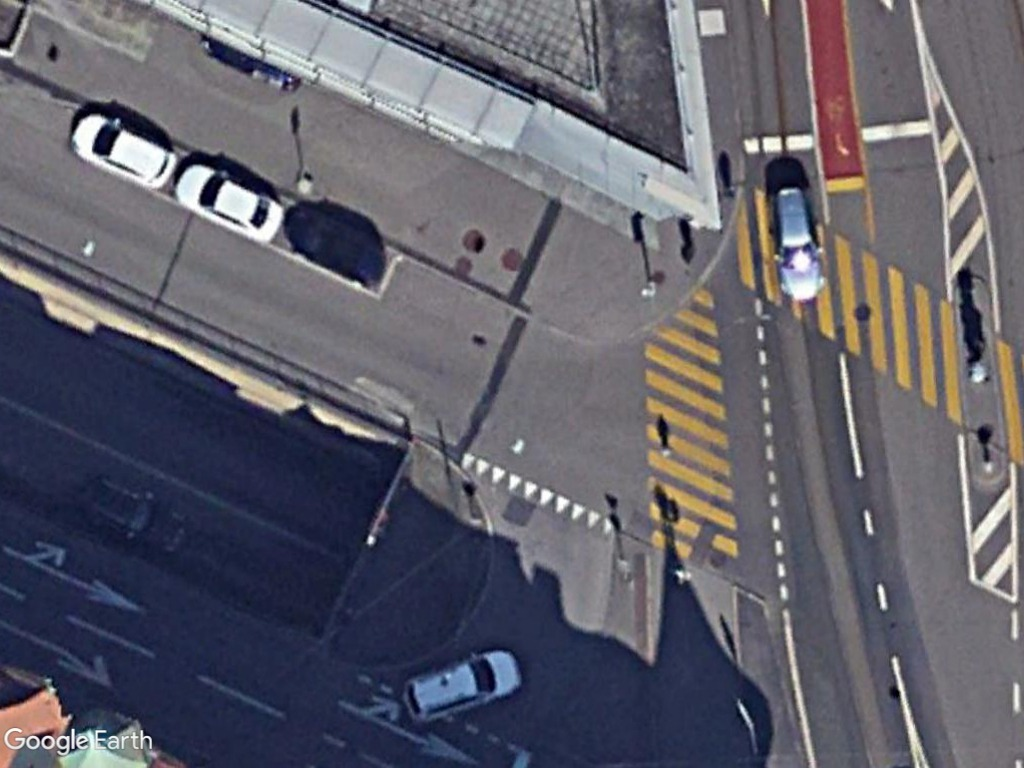car: (399, 646, 528, 727), (172, 160, 287, 245), (66, 105, 177, 191), (769, 180, 826, 306)
